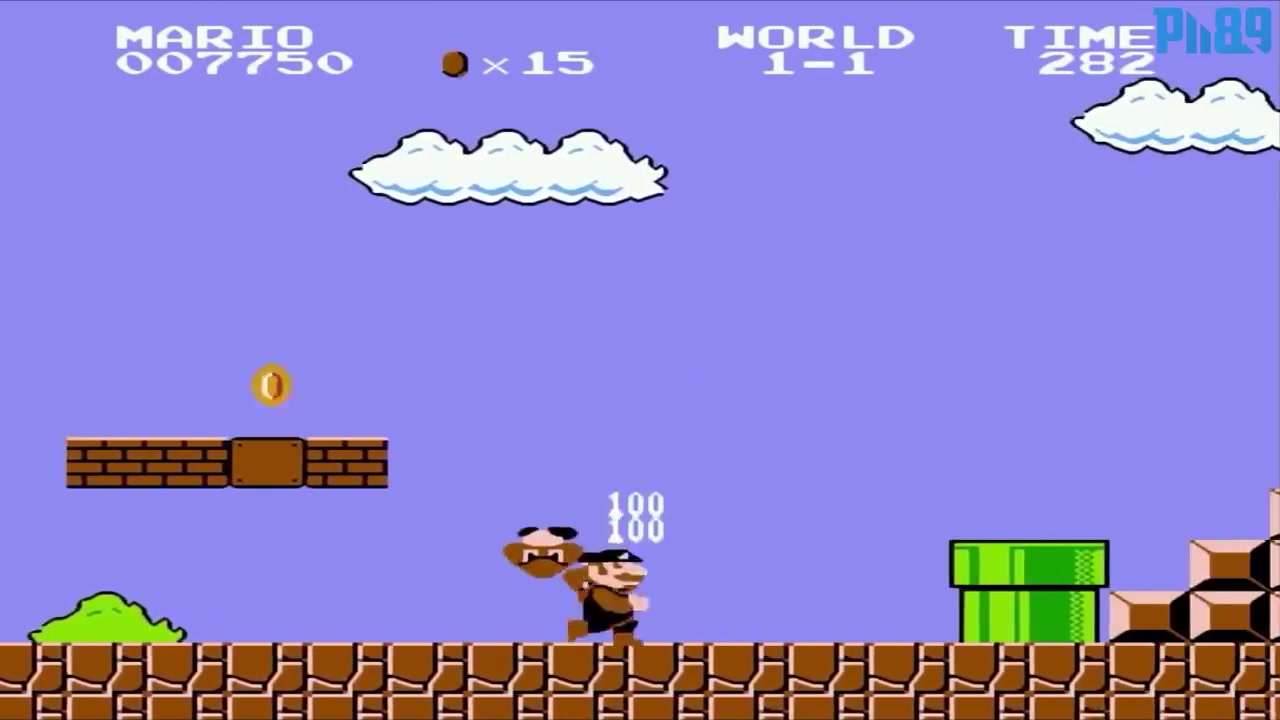mario: (554, 543, 679, 649)
